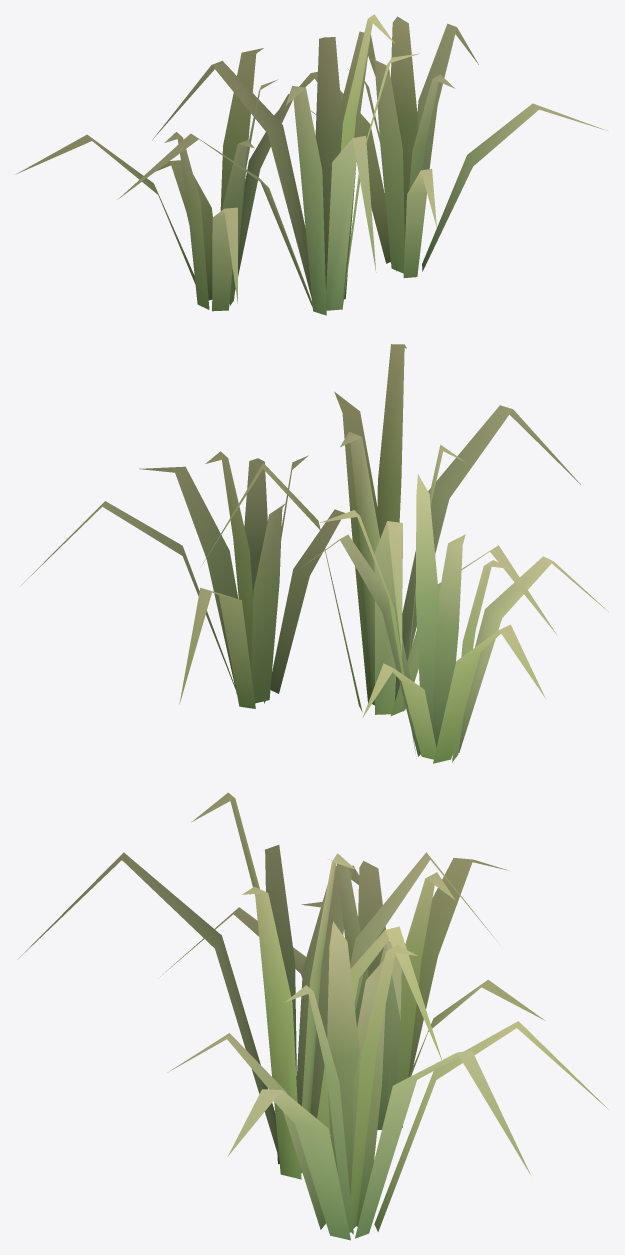
File: deco-beachgrass-low.glb
3 views of the same model, one above another, from view 1: azimuth 30°, elevation 25°; view 2: azimuth 150°, elevation 25°; view 3: azimuth 270°, elevation 25° (orthographic). The views are drawn at different scales.
Visible parts, largest first — view 1: 0_beachgrass; view 2: 0_beachgrass; view 3: 0_beachgrass.
Part boxes in pixels (x1=…): 0_beachgrass: x1=16, y1=14, x2=608, y2=315; 0_beachgrass: x1=21, y1=344, x2=608, y2=763; 0_beachgrass: x1=18, y1=792, x2=608, y2=1240.
Size of the model in its own units: 1.33 by 0.8033 by 1.13.
